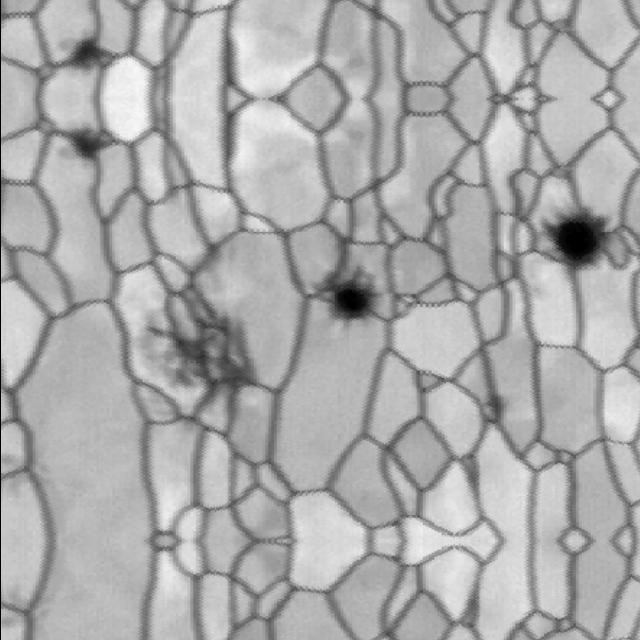good_void: (135, 272, 265, 410), (531, 197, 614, 289), (45, 120, 129, 168), (45, 32, 129, 80), (325, 272, 379, 332), (473, 378, 516, 445)
